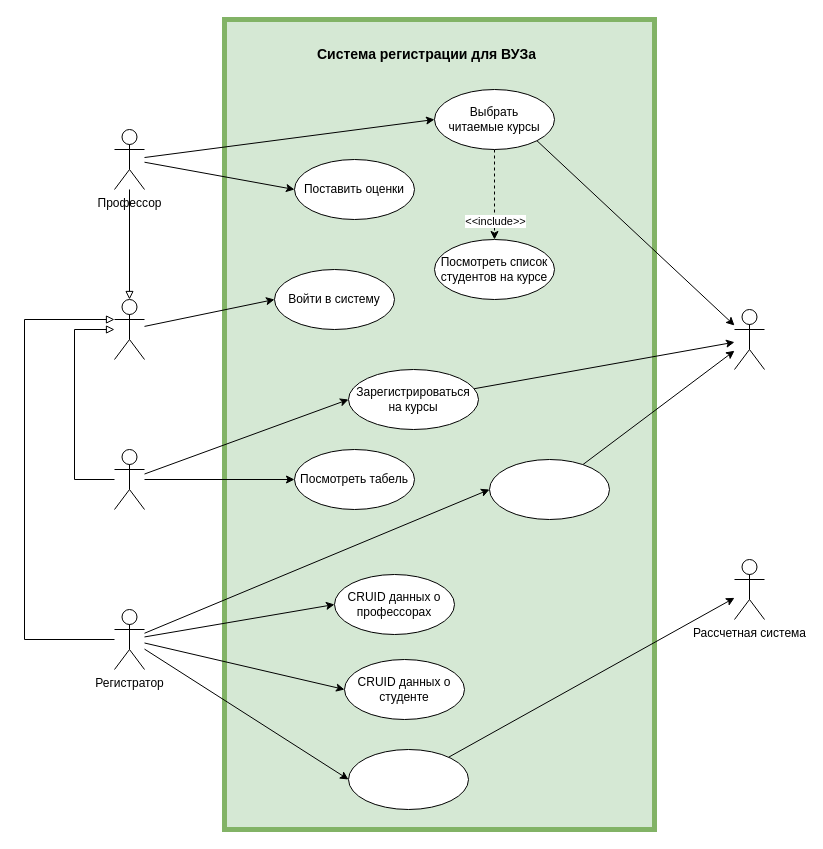
The diagram is 823 pixels wide and 849 high, and some of its shapes have lost their labels. Each missing label, with the centre of its shape:
"Закрыть регистрацию" belongs at point (408, 779).
"Каталог курсов" belongs at point (749, 339).
"Открыть регистрацию" belongs at point (549, 489).
"Пользователь" belongs at point (129, 329).
"Студент" belongs at point (129, 479).
